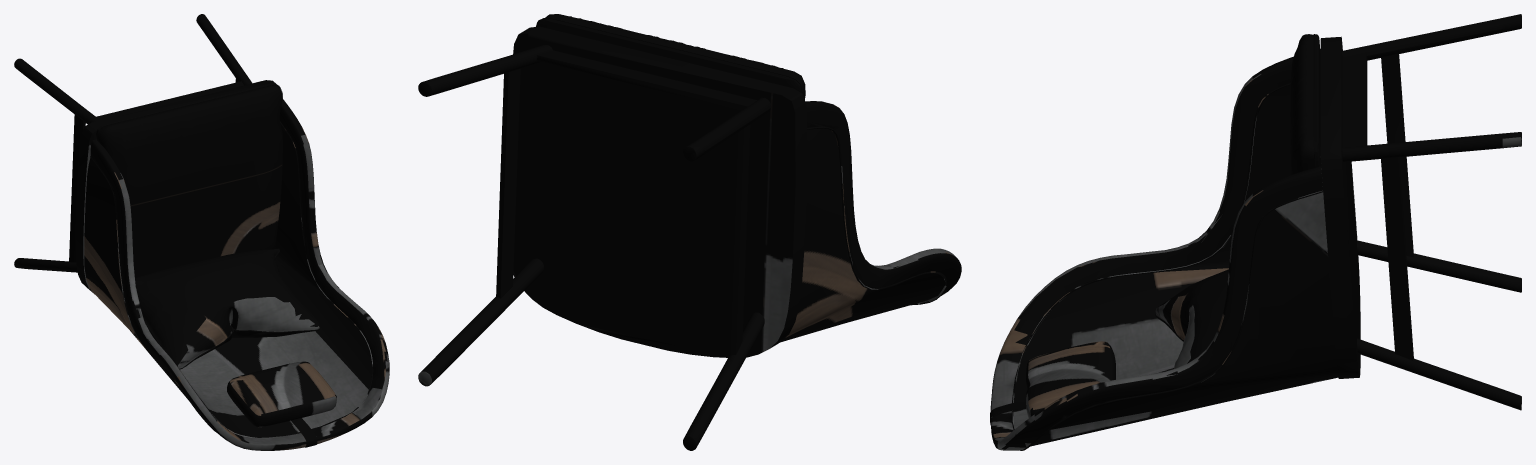
3 renders of one model, left to right at view 1: azimuth 30°, elevation 25°; view 2: azimuth 150°, elevation 25°; view 3: azimuth 270°, elevation 25°, orthographic. The views are drawn at different scales.
Size of the model in its own units: 0.6204 by 0.7735 by 1.06.
